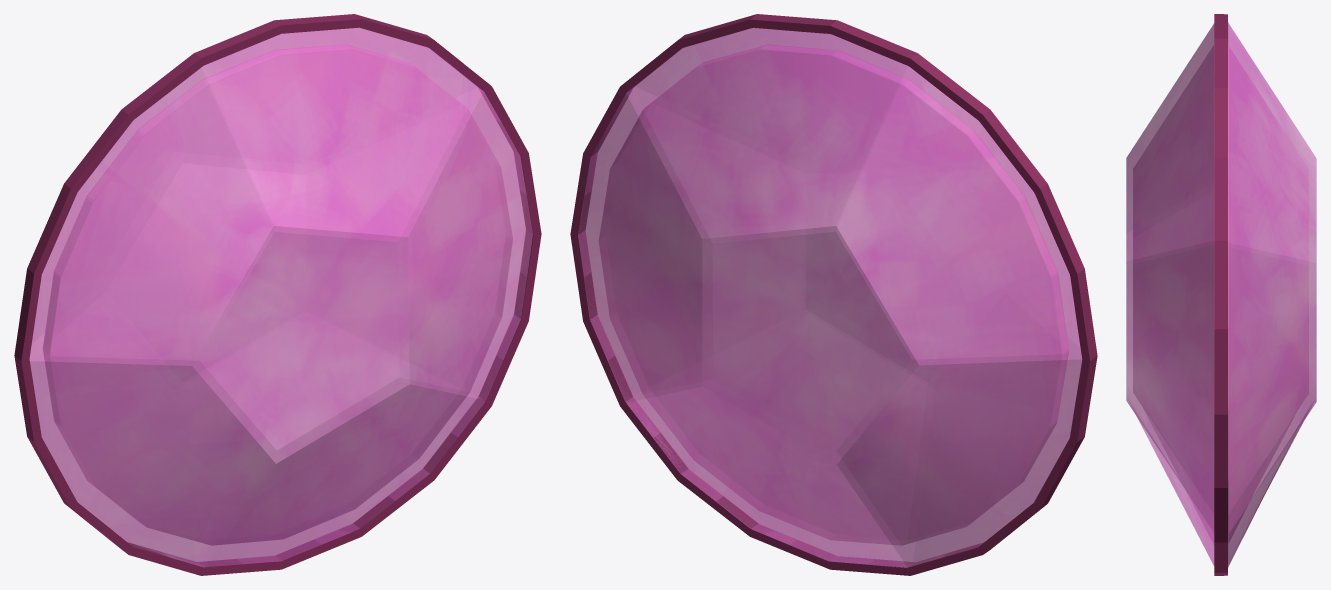
The model's file is deraumere.glb.
The picture shows the model from 3 angles, left to right: view 1: azimuth 30°, elevation 25°; view 2: azimuth 150°, elevation 25°; view 3: azimuth 270°, elevation 25°; orthographic projection. The views are drawn at different scales.
Visible parts, largest first — view 1: polySurface9, polySurface8, polySurface2, polySurface10, polySurface6; view 2: polySurface10, polySurface6, polySurface9, polySurface2, polySurface8; view 3: polySurface9, polySurface10, polySurface8, polySurface6, polySurface2.
Part boxes in pixels (x1,y1,x2,y2): polySurface9: (29, 27, 532, 566); polySurface8: (43, 45, 512, 545); polySurface2: (14, 14, 541, 575); polySurface10: (30, 28, 525, 567); polySurface6: (43, 44, 414, 525); polySurface10: (578, 28, 1082, 567); polySurface6: (599, 45, 1067, 545); polySurface9: (578, 27, 1082, 567); polySurface2: (570, 14, 1097, 575); polySurface8: (645, 44, 1068, 501); polySurface9: (1126, 22, 1228, 567); polySurface10: (1228, 23, 1316, 566); polySurface8: (1133, 45, 1213, 544); polySurface6: (1228, 46, 1308, 543); polySurface2: (1214, 14, 1227, 575).
Size of the model in its own units: 1.62 by 1.62 by 0.5456.
Materials: 2 (1 with a texture image).
